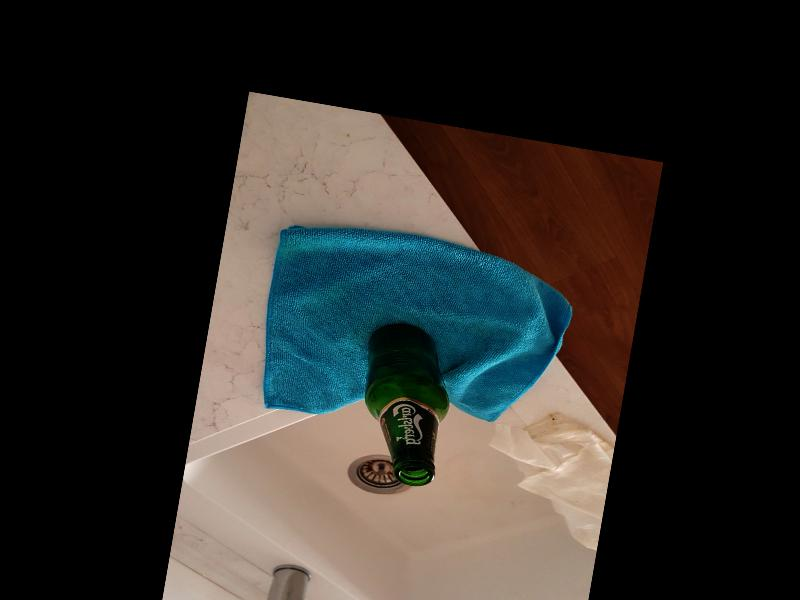Beer: (348, 316, 462, 487)
